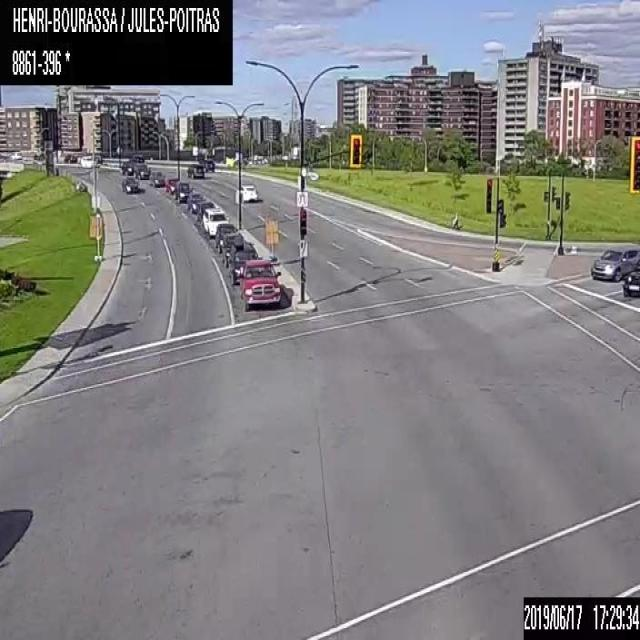vehicle: (238, 259, 280, 306), (590, 245, 639, 282), (227, 234, 261, 284), (220, 232, 246, 268), (202, 207, 228, 236), (215, 223, 237, 252), (623, 268, 639, 298), (235, 182, 257, 202), (197, 200, 215, 222), (174, 180, 192, 202), (187, 190, 204, 212), (122, 175, 138, 192), (149, 170, 165, 186), (133, 162, 149, 178), (186, 163, 203, 178), (165, 177, 179, 193), (80, 154, 96, 168), (199, 158, 214, 172), (120, 160, 134, 175), (129, 153, 143, 162), (64, 153, 76, 162), (10, 150, 21, 158)
